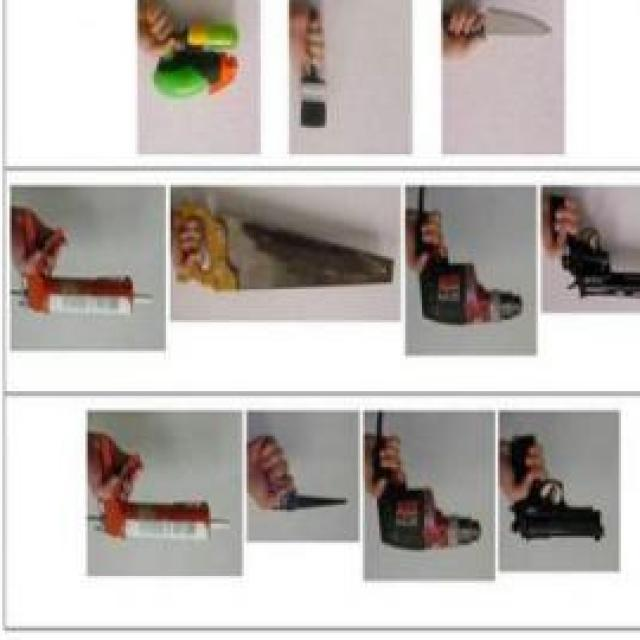pistol: (509, 420, 602, 552), (548, 197, 640, 309)
